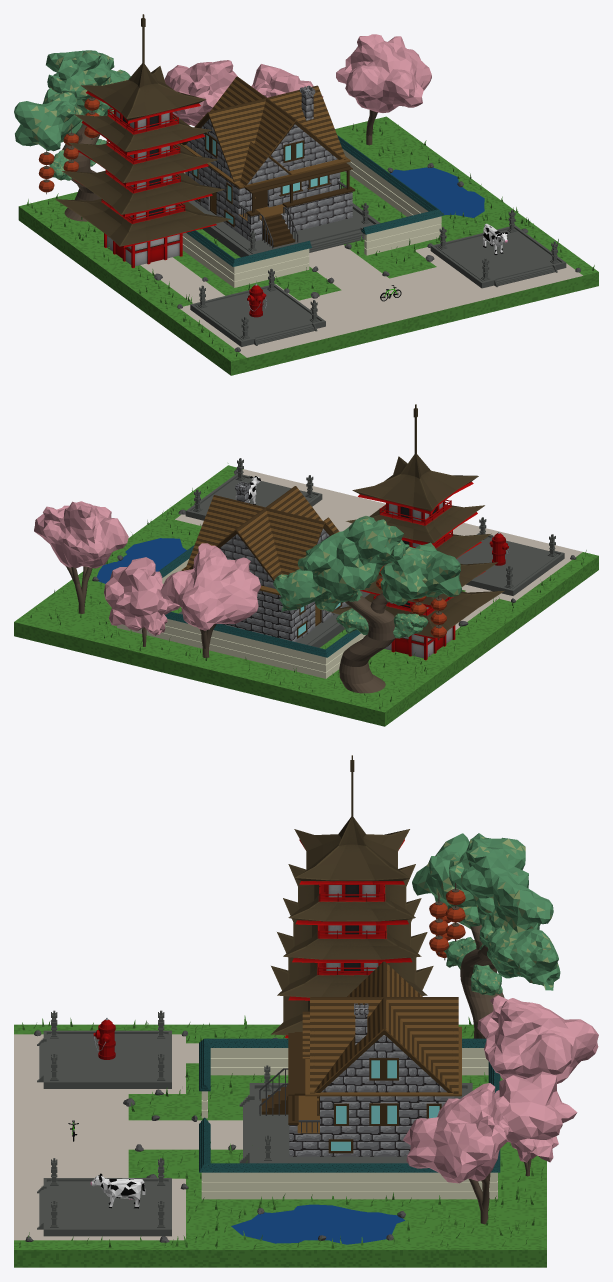
The picture shows the model from 3 angles, top to bottom: view 1: azimuth 30°, elevation 25°; view 2: azimuth 150°, elevation 25°; view 3: azimuth 270°, elevation 25°; orthographic projection. The views are drawn at different scales.
Visible parts, largest first — view 1: Cube.005, Cube.586; view 2: Cube.005, Cube.586, OBJRANDOM_FIRE_HYDRANT; view 3: Cube.005, Cube.586, ANIMAL_VACA, OBJRANDOM_FIRE_HYDRANT.
Boxes of the visible parts, box(x1,y1,x2,y2) form: Cube.005: box(14, 14, 598, 375); Cube.586: box(179, 76, 355, 248); Cube.005: box(14, 404, 598, 726); Cube.586: box(181, 481, 347, 641); OBJRANDOM_FIRE_HYDRANT: box(489, 532, 509, 565); Cube.005: box(14, 755, 598, 1267); Cube.586: box(259, 961, 461, 1156); ANIMAL_VACA: box(90, 1173, 145, 1208); OBJRANDOM_FIRE_HYDRANT: box(93, 1018, 115, 1059).
Size of the model in its own units: 4528 by 2713 by 4389.
Materials: 34 (7 with a texture image).
